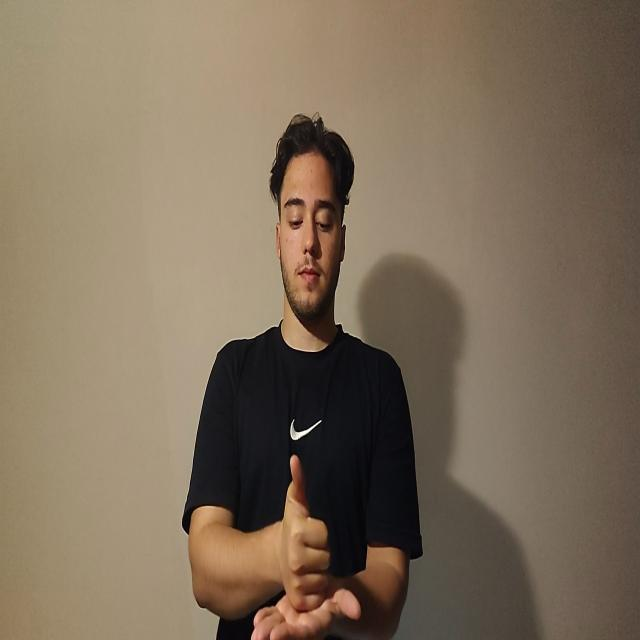help: (256, 453, 360, 640)
